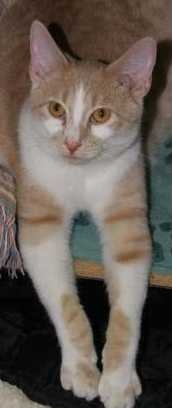Cat: (2, 20, 158, 404)
